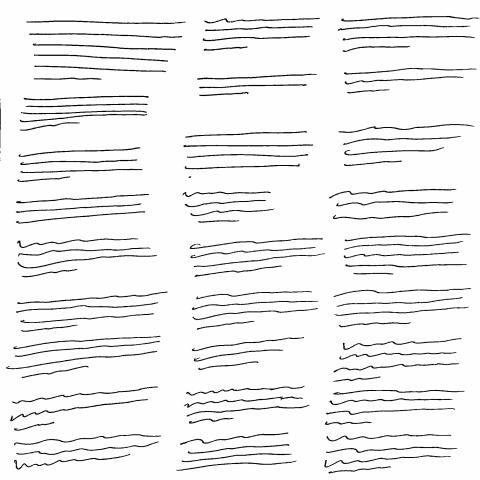Paragraph: (25, 20, 189, 81), (10, 386, 159, 432), (6, 336, 164, 379), (15, 291, 170, 334), (335, 124, 477, 169), (337, 13, 480, 55), (332, 339, 464, 384), (17, 239, 159, 280), (333, 288, 474, 329), (189, 238, 328, 279), (344, 233, 472, 277), (13, 435, 164, 472), (324, 389, 469, 427), (183, 130, 316, 171), (323, 435, 459, 475), (190, 291, 321, 331), (176, 432, 300, 473), (19, 95, 150, 133), (184, 386, 310, 425), (17, 147, 145, 184), (201, 16, 324, 53), (328, 188, 460, 222), (14, 194, 151, 226), (191, 337, 306, 371), (342, 67, 480, 95), (197, 73, 317, 99)
